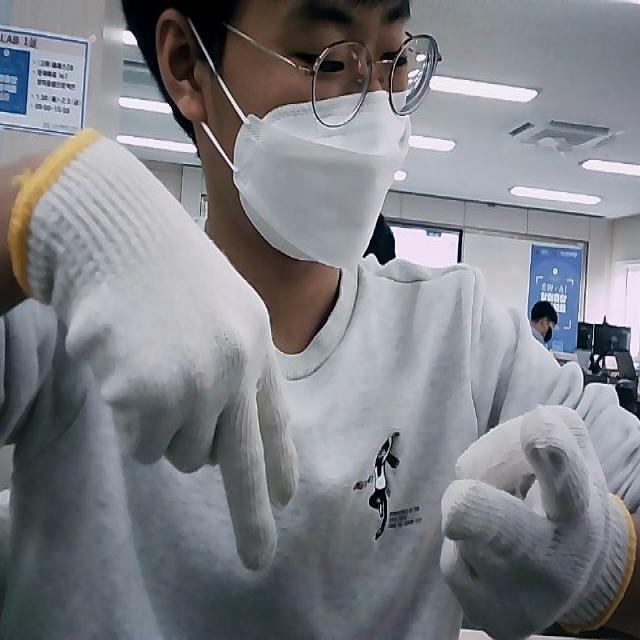gloves: (9, 127, 302, 572), (438, 403, 636, 640)
